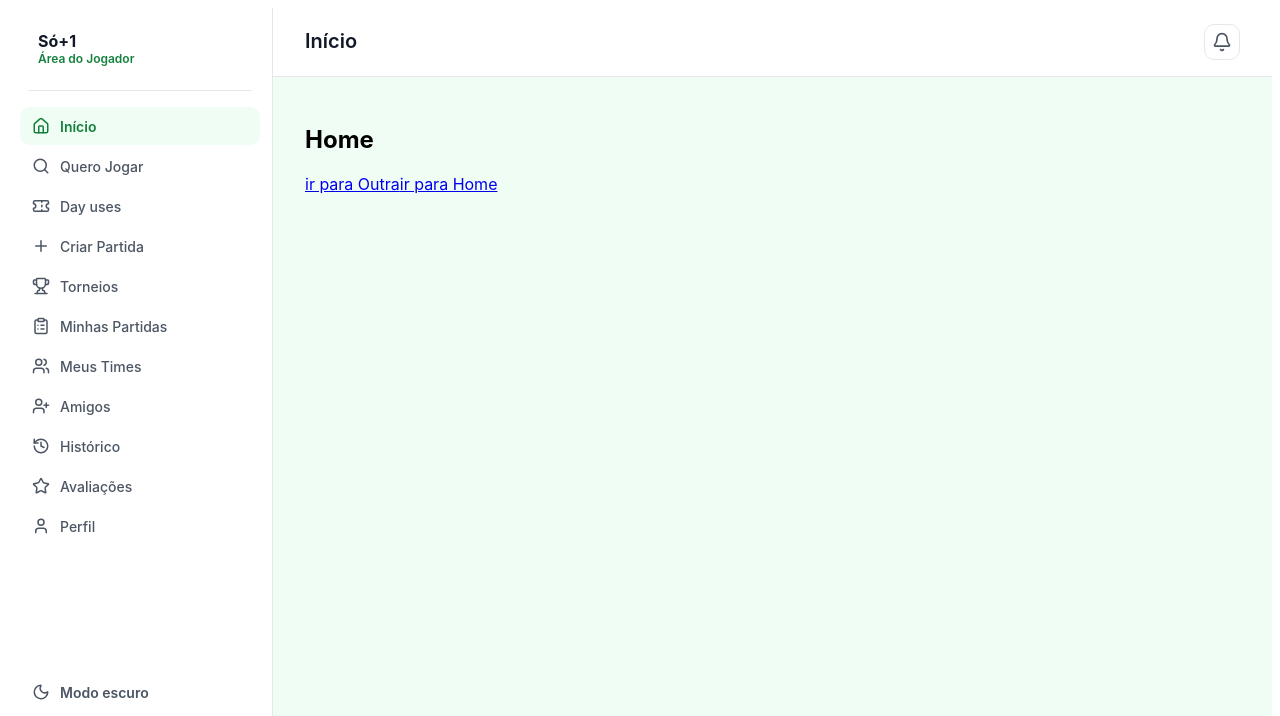
layout como rota-pai › não remonta o MainLayout ao navegar entre páginas do jogador
Expected: the heading "Home" is shown, 305,125 -> 374,154
Click the link "ir para Outra". click: x=352, y=184
box: 305,174 -> 400,194
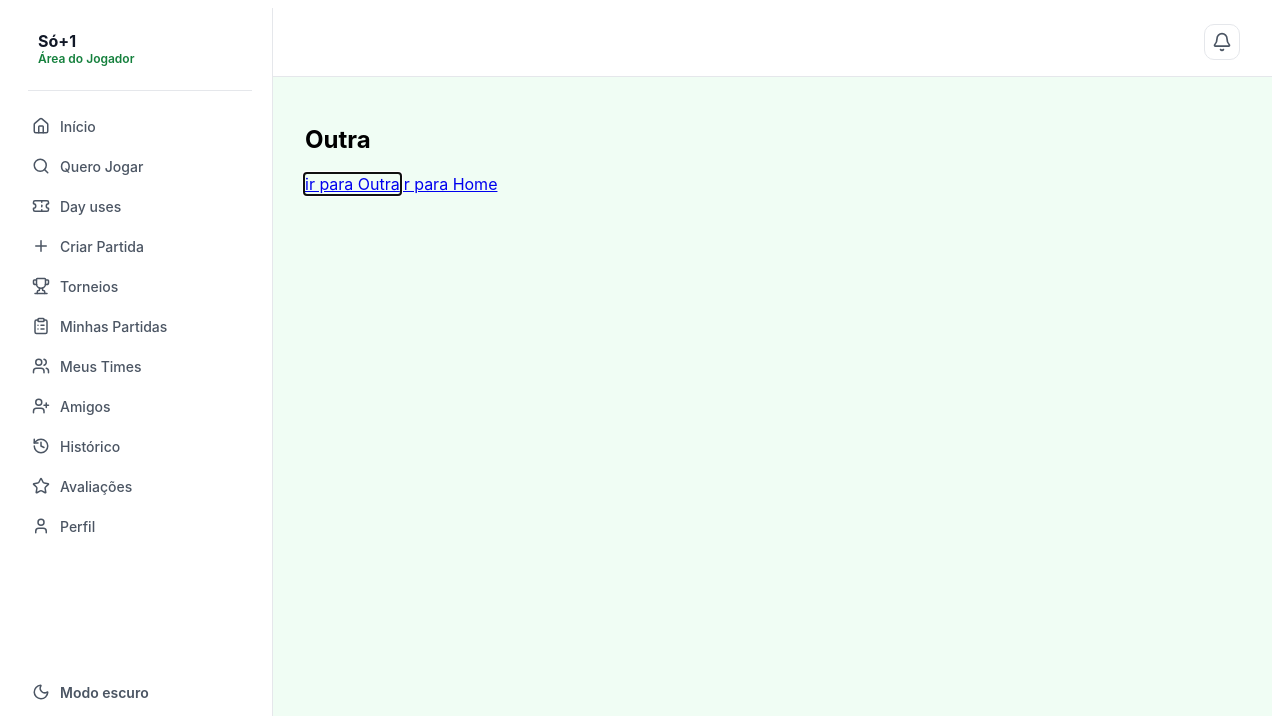
Expected: the heading "Outra" is shown, 305,125 -> 371,154
Click the link "ir para Home". click: x=449, y=184
box: 400,174 -> 498,194
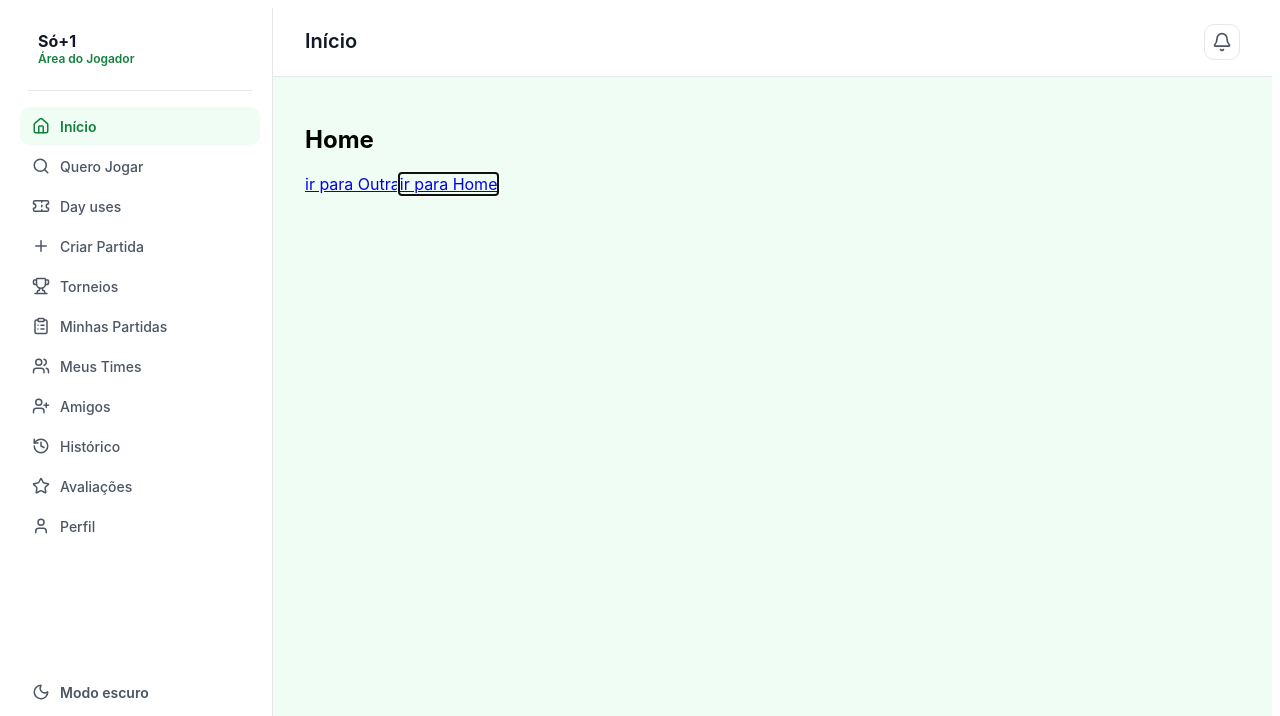
Expected: the heading "Home" is shown, 305,125 -> 374,154
